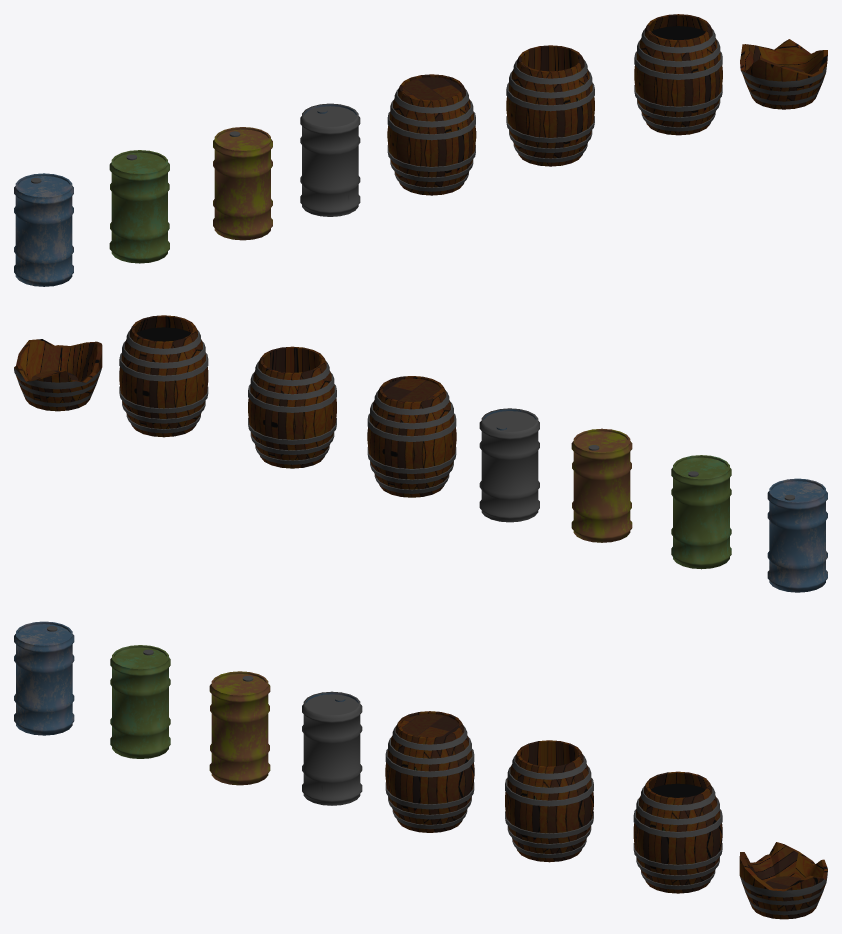
Rendered from barrel.fbx.
The picture shows the model from 3 angles, top to bottom: view 1: azimuth 30°, elevation 25°; view 2: azimuth 150°, elevation 25°; view 3: azimuth 330°, elevation 25°; orthographic projection.
Visible parts, largest first — view 1: Barrel_5, Barrel_6, Barrel_7, Barrel_3, Barrel_4, Barrel_2, Barrel_1, Barrel_broken; view 2: Barrel_5, Barrel_7, Barrel_6, Barrel_1, Barrel_4, Barrel_3, Barrel_2, Barrel_broken; view 3: Barrel_5, Barrel_7, Barrel_6, Barrel_1, Barrel_4, Barrel_3, Barrel_2, Barrel_broken.
Boxes of the visible parts, x1,y1,x2,y2 form: Barrel_5: [387, 74, 476, 195]; Barrel_6: [506, 45, 594, 166]; Barrel_7: [634, 14, 722, 135]; Barrel_3: [14, 173, 73, 286]; Barrel_4: [300, 103, 360, 216]; Barrel_2: [109, 150, 169, 263]; Barrel_1: [213, 127, 272, 240]; Barrel_broken: [740, 39, 827, 109]; Barrel_5: [367, 376, 456, 497]; Barrel_7: [119, 315, 208, 437]; Barrel_6: [248, 346, 336, 468]; Barrel_1: [571, 428, 632, 542]; Barrel_4: [479, 408, 539, 522]; Barrel_3: [767, 478, 827, 592]; Barrel_2: [671, 455, 731, 569]; Barrel_broken: [14, 339, 102, 411]; Barrel_5: [385, 711, 474, 832]; Barrel_7: [633, 771, 722, 893]; Barrel_6: [505, 740, 593, 862]; Barrel_1: [209, 671, 270, 785]; Barrel_4: [302, 691, 362, 805]; Barrel_3: [14, 621, 74, 735]; Barrel_2: [110, 645, 170, 758]; Barrel_broken: [739, 842, 827, 919].
Bounding box in the file's own units: 8.96 × 1.01 × 0.8585.
